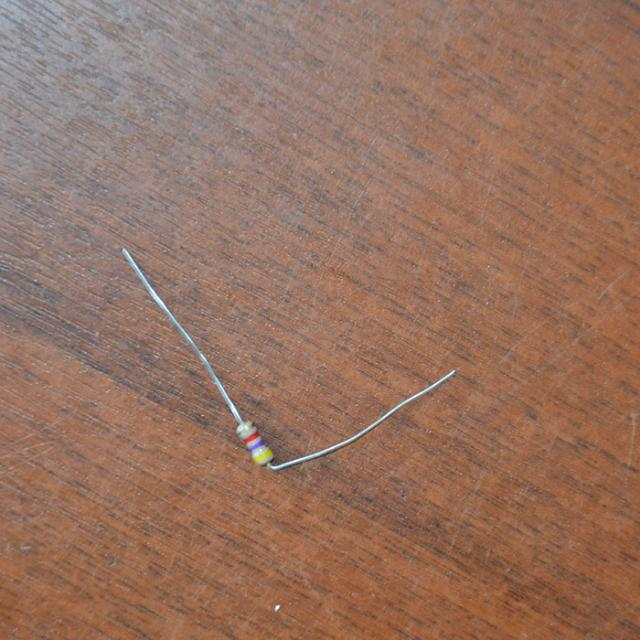gold: (237, 421, 253, 433)
red: (243, 432, 260, 444)
resistor: (201, 415, 286, 473)
violet: (250, 440, 266, 452)
yellow: (252, 448, 272, 462)
